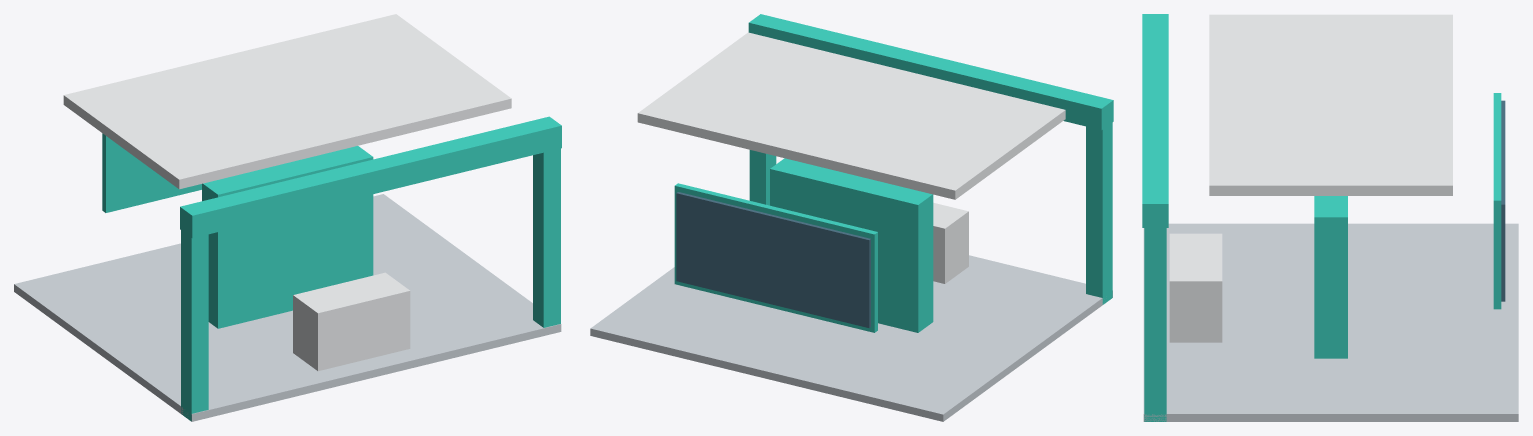
3 renders of one model, left to right at view 1: azimuth 30°, elevation 25°; view 2: azimuth 150°, elevation 25°; view 3: azimuth 270°, elevation 25°, orthographic. The views are drawn at different scales.
Visible parts, largest first — view 1: Exhibition Booth Concept; view 2: Exhibition Booth Concept; view 3: Exhibition Booth Concept.
Part boxes in pixels (bbox=[...]): Exhibition Booth Concept: bbox=[14, 14, 561, 421]; Exhibition Booth Concept: bbox=[590, 14, 1113, 421]; Exhibition Booth Concept: bbox=[1142, 14, 1518, 421].
Size of the model in its own units: 6 by 3.34 by 5.02.
